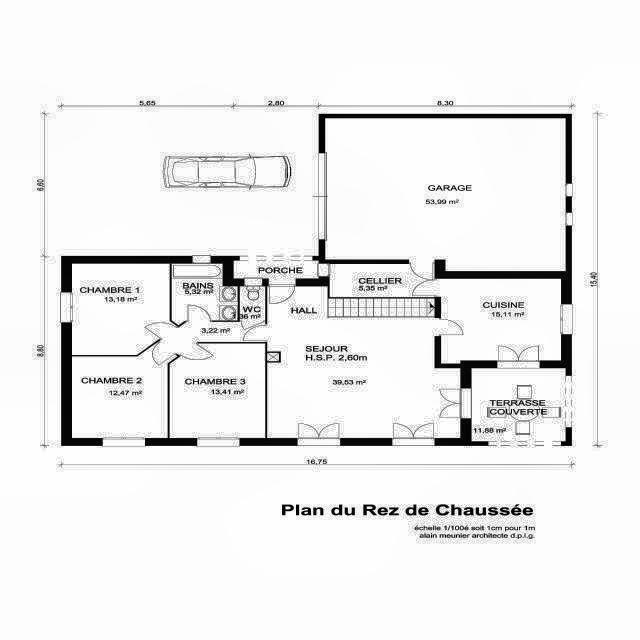room: (325, 118, 566, 271), (267, 286, 461, 438), (442, 279, 561, 363), (72, 343, 177, 438), (72, 264, 177, 355), (170, 343, 265, 438), (472, 368, 565, 441), (157, 311, 267, 357), (171, 264, 238, 325), (330, 264, 433, 297), (233, 260, 319, 278), (240, 286, 265, 320)
